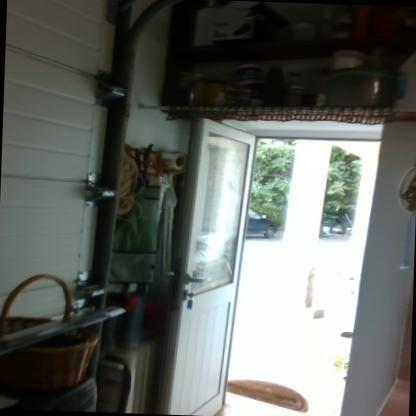open: (159, 108, 416, 416)
